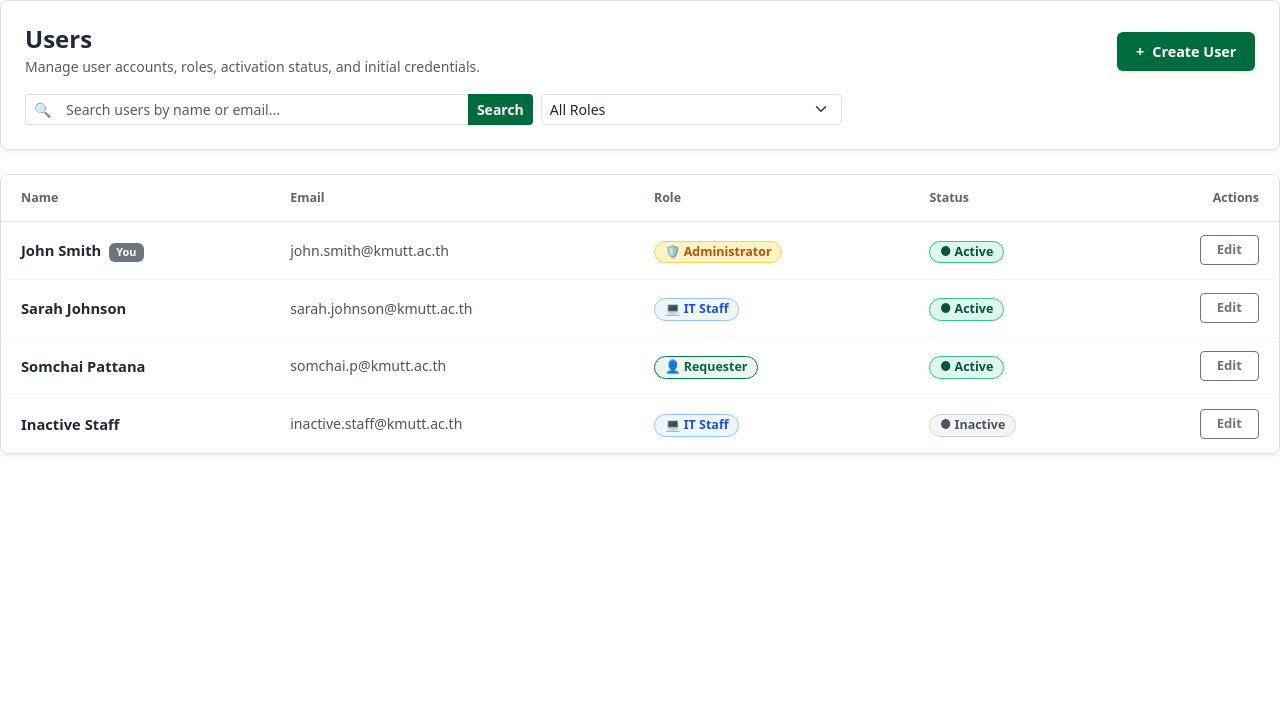
it: UserManagement Component Tests (UI-07, UI-08, UI-09, Feature-12) › UI-08: Admin Create User form and initial password (AC-16, FR-34) › submits valid create user form and handles duplicate email conflict gracefully (AC-16)
The width and height of the screenshot is (1280, 720).
Click the button "+ Create User".
click(1186, 51)  # box x1=1117 y1=32 x2=1255 y2=71
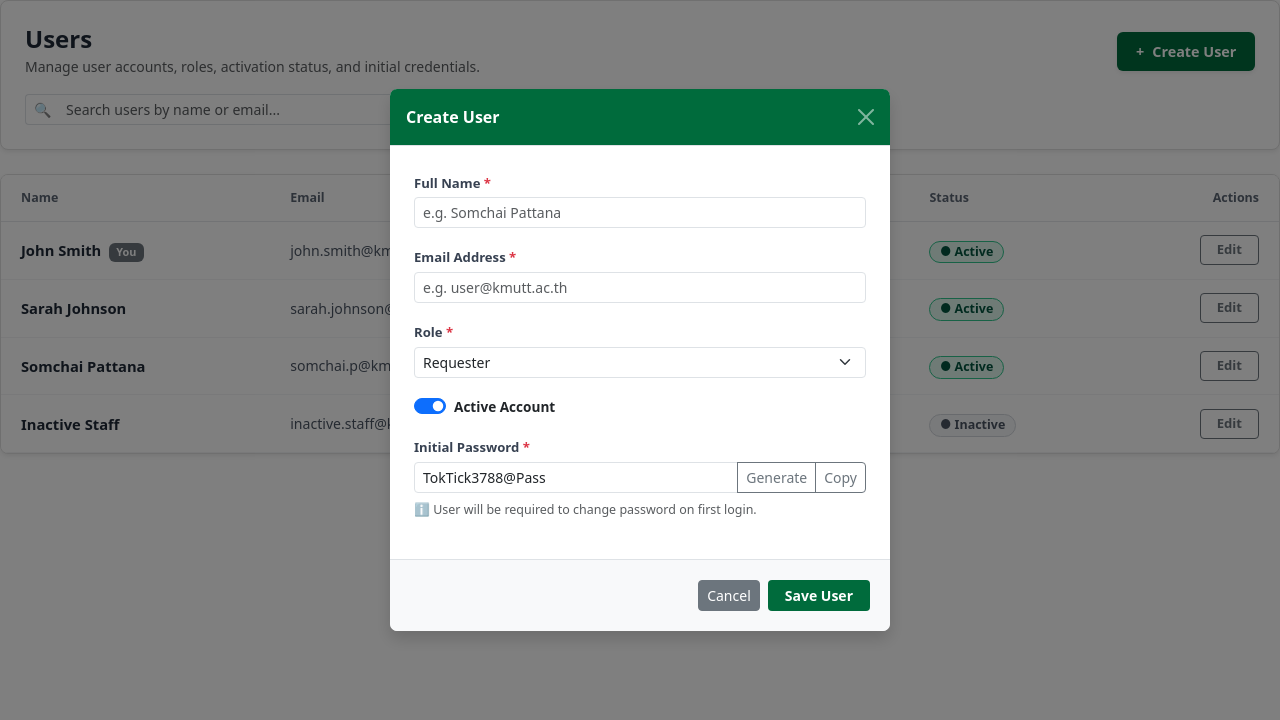
Type "Alex Thompson" into the field with id "create-user-name".
click(640, 213); type("Alex Thompson")  # box x1=414 y1=198 x2=866 y2=228
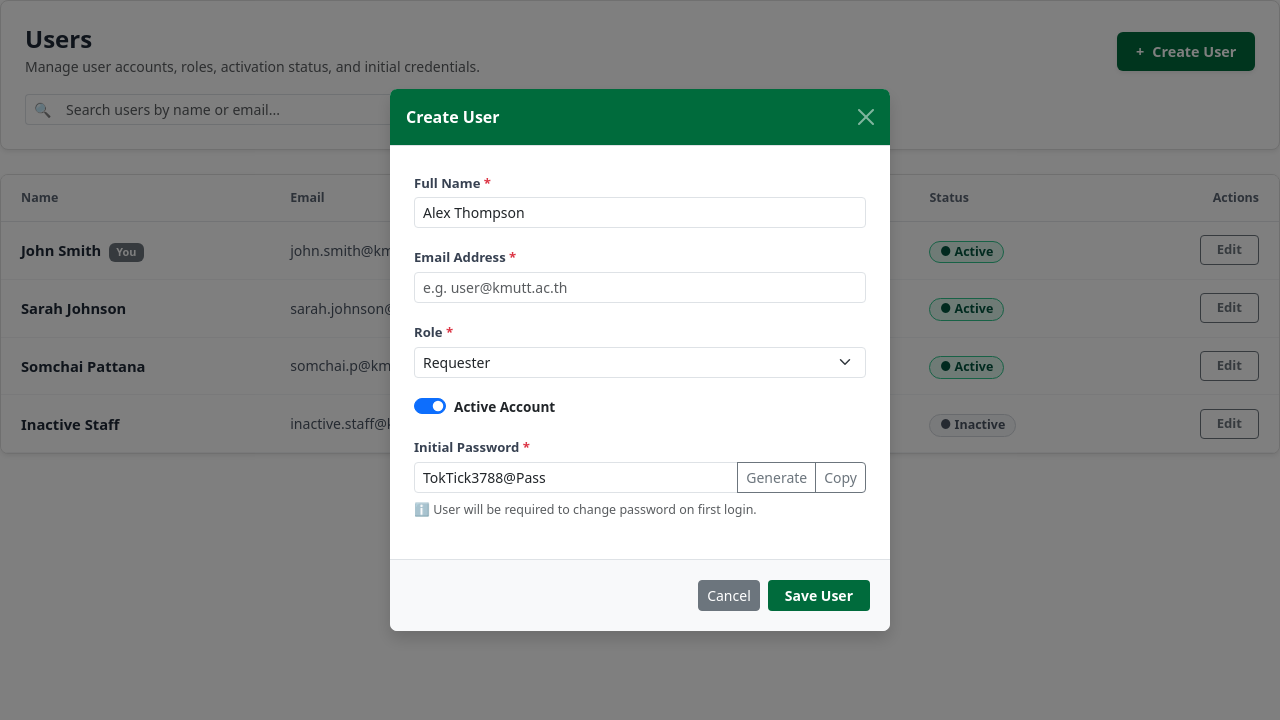
Type "sarah.johnson@kmutt.ac.th" into the field with id "create-user-email".
click(640, 288); type("sarah.johnson@kmutt.ac.th")  # box x1=414 y1=272 x2=866 y2=303
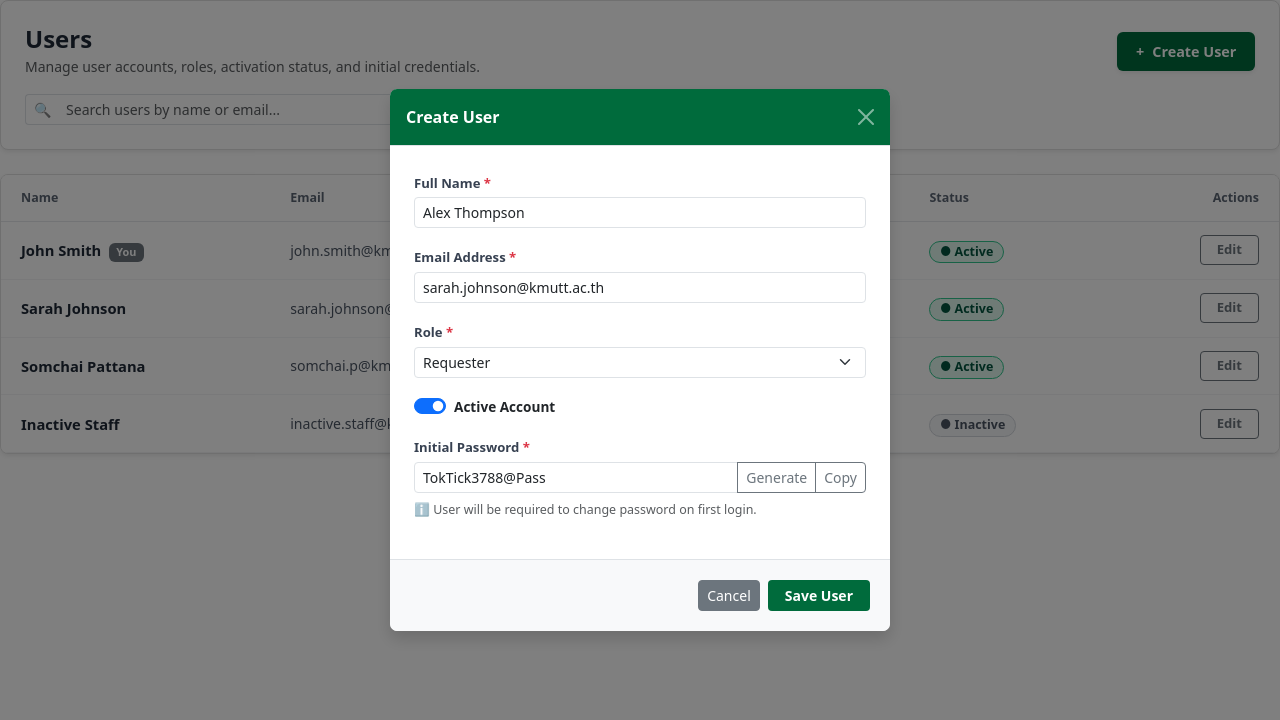
Replace the text in the field with id "create-user-password" with "SecurePass123!" at (576, 477), box x1=414 y1=462 x2=738 y2=492
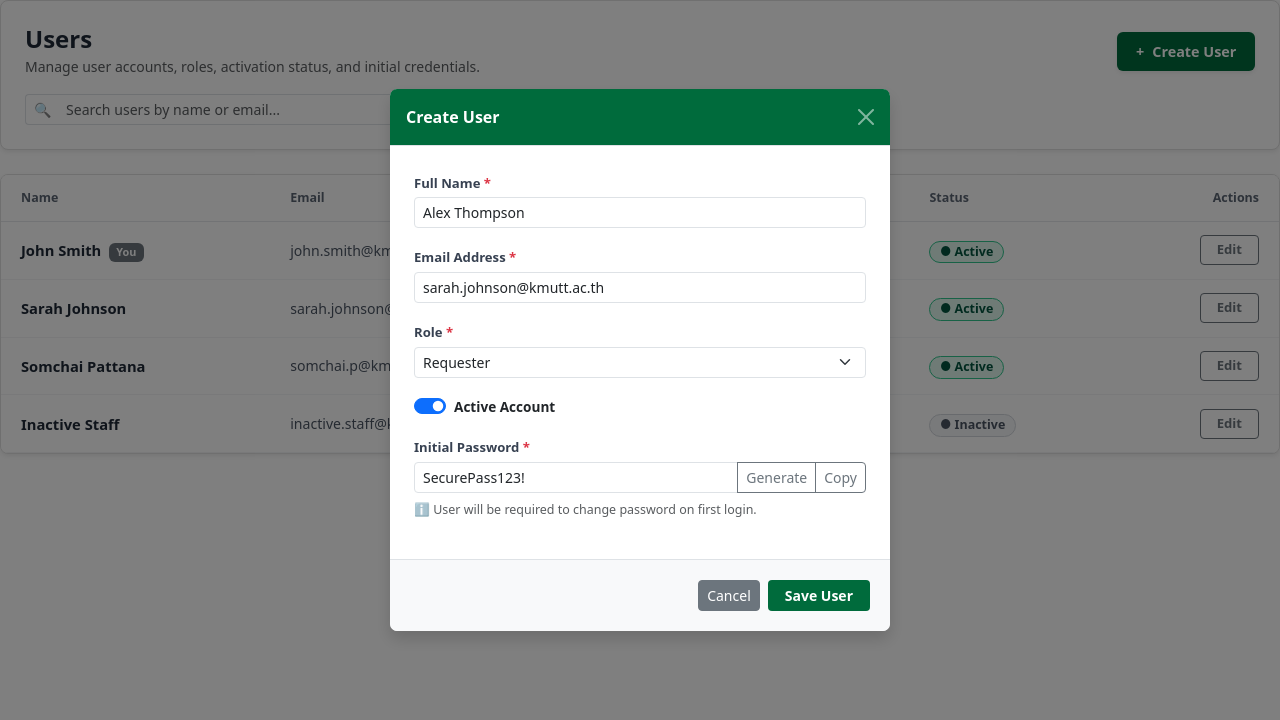
Click the button "Save User".
click(819, 596)  # box x1=768 y1=580 x2=870 y2=611
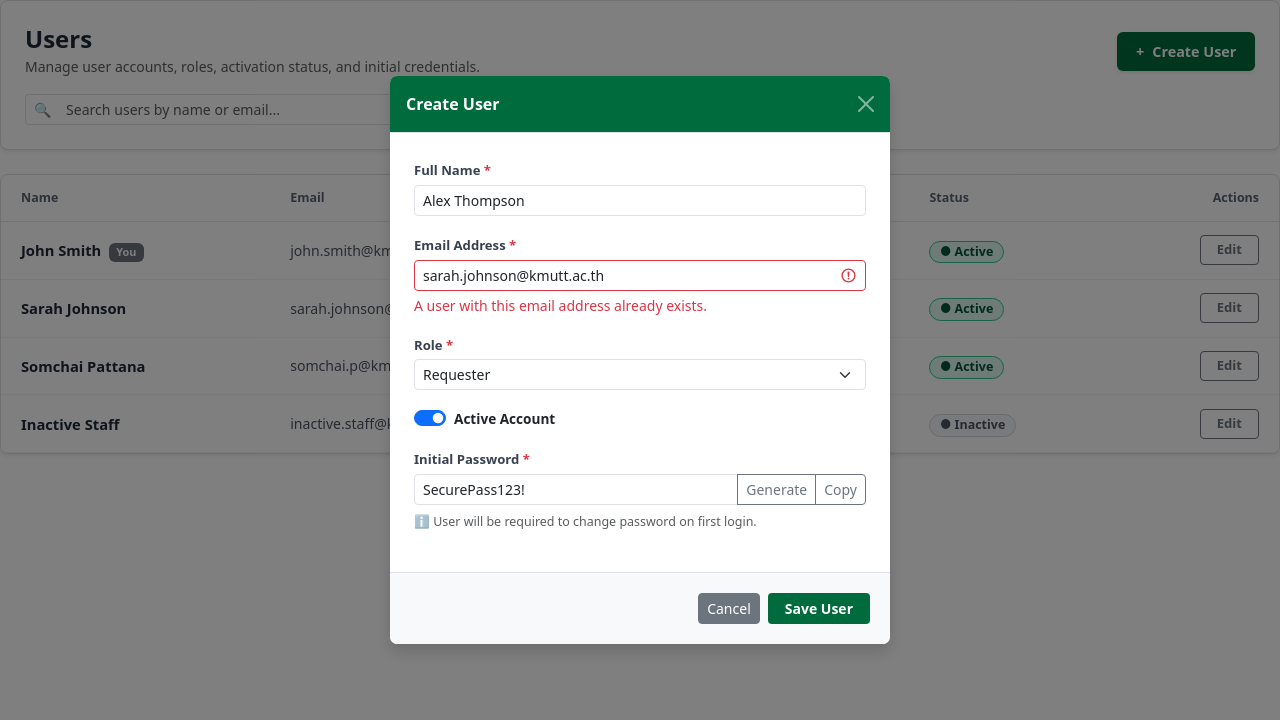
Expected: the text "A user with this email address already exists." is shown, x1=414 y1=296 x2=707 y2=315
